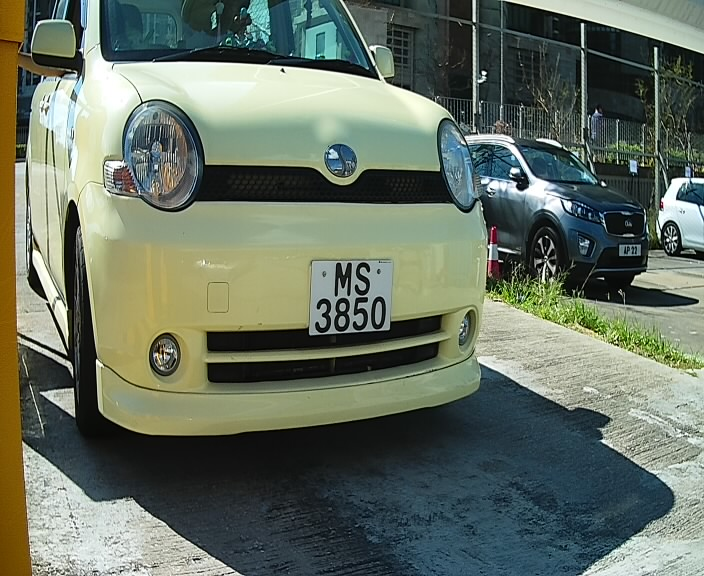Car: (8, 3, 506, 464)
License Plate: (300, 255, 403, 344)
